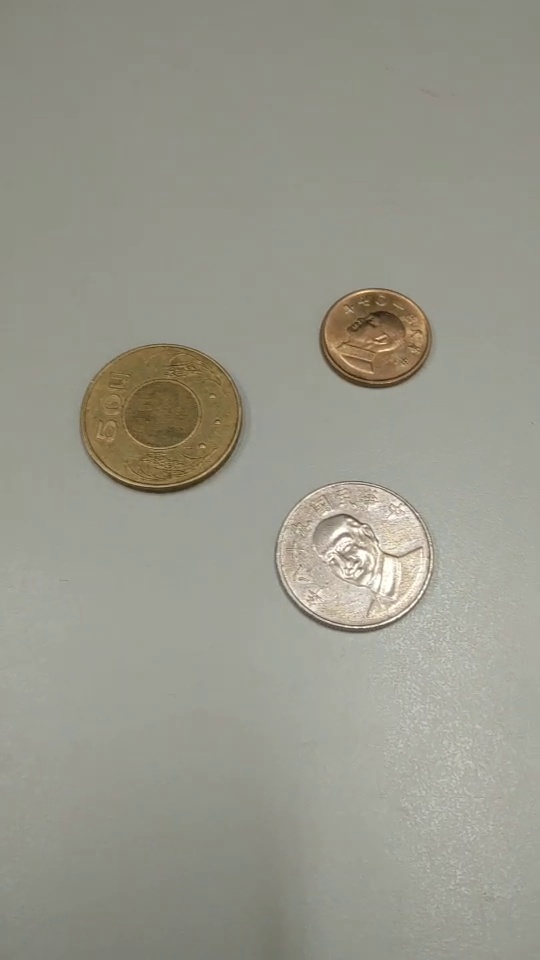NT$ 1: (317, 288, 435, 393)
NT$ 10: (276, 481, 434, 632)
NT$ 50: (83, 342, 246, 493)
